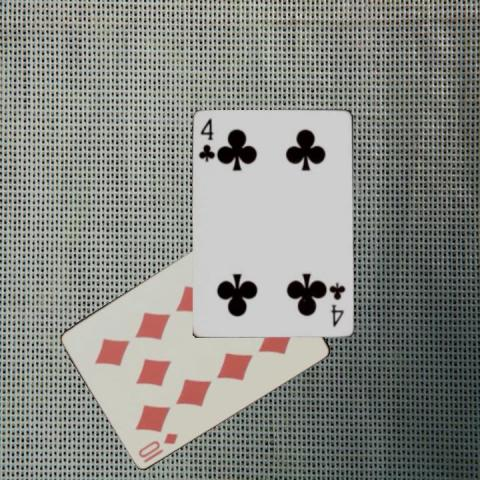10d: (135, 430, 180, 460)
4c: (196, 116, 216, 164), (328, 280, 347, 329)
